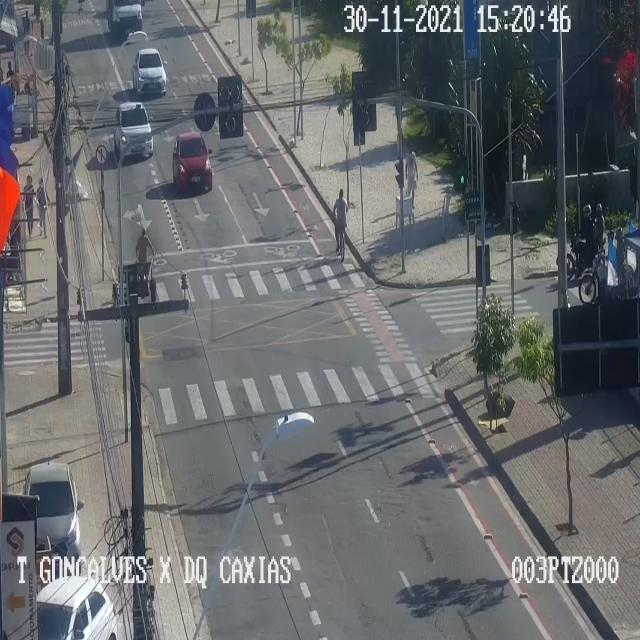Car: (25, 458, 83, 561), (36, 576, 116, 639), (172, 134, 212, 191), (113, 102, 153, 158), (132, 46, 168, 94)
Motorcycle: (579, 228, 627, 302), (566, 203, 604, 280)
Truck: (106, 0, 144, 37)
